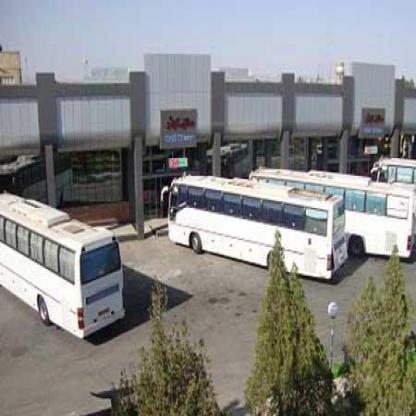bus: (159, 169, 349, 290), (0, 183, 130, 331), (252, 162, 415, 268), (369, 152, 415, 210)
